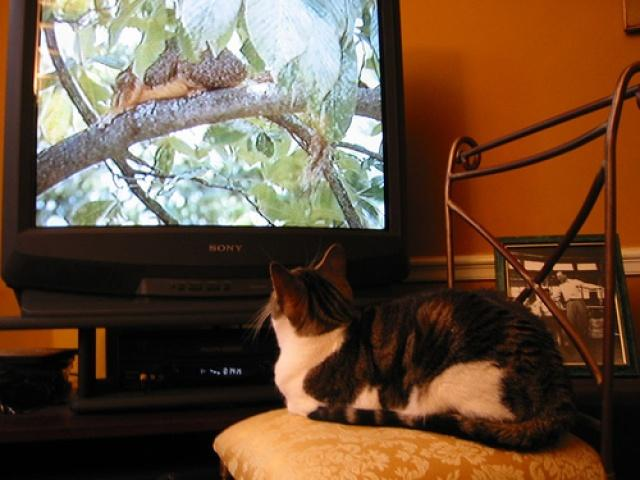AIO PC-Monitor-TV: (0, 0, 407, 281)
